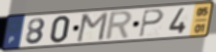0: (48, 15, 72, 44)
4: (167, 6, 188, 36)
8: (25, 17, 46, 45)
M: (75, 11, 110, 43)
P: (138, 8, 166, 39)
R: (103, 9, 134, 42)
